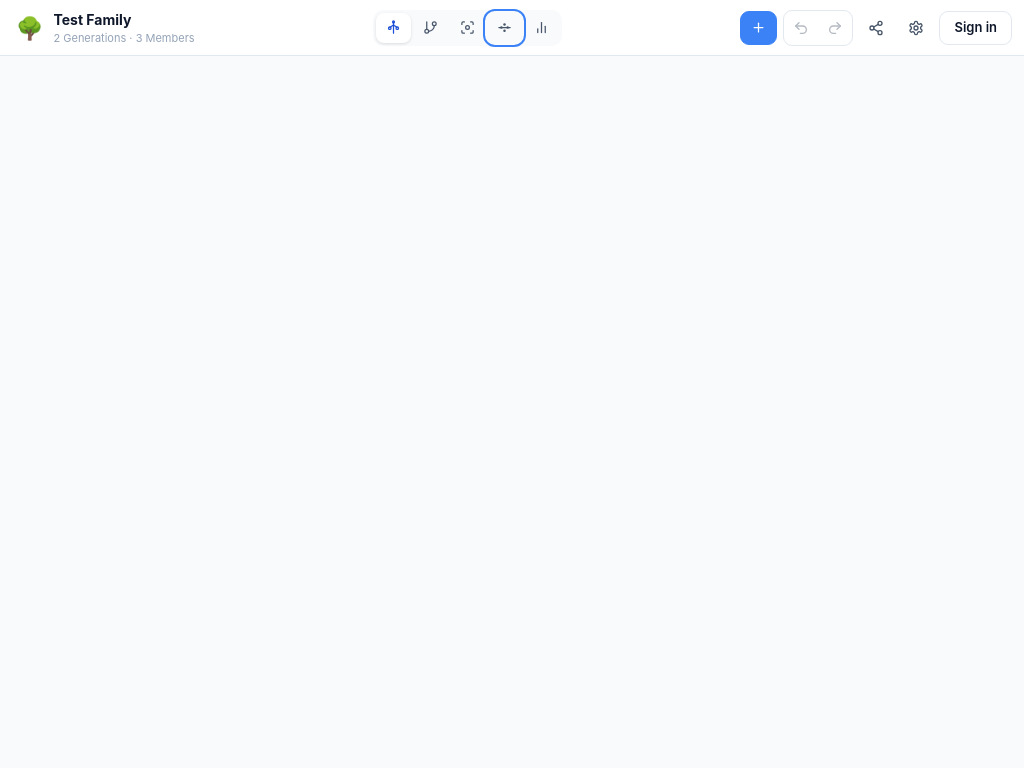
Test: dialog keyboard behaviour › returns focus to the Timeline button when the timeline closes
The image size is (1024, 768).
Click the 2nd button named "Timeline".
click(504, 28)  # box x1=487 y1=12 x2=522 y2=42
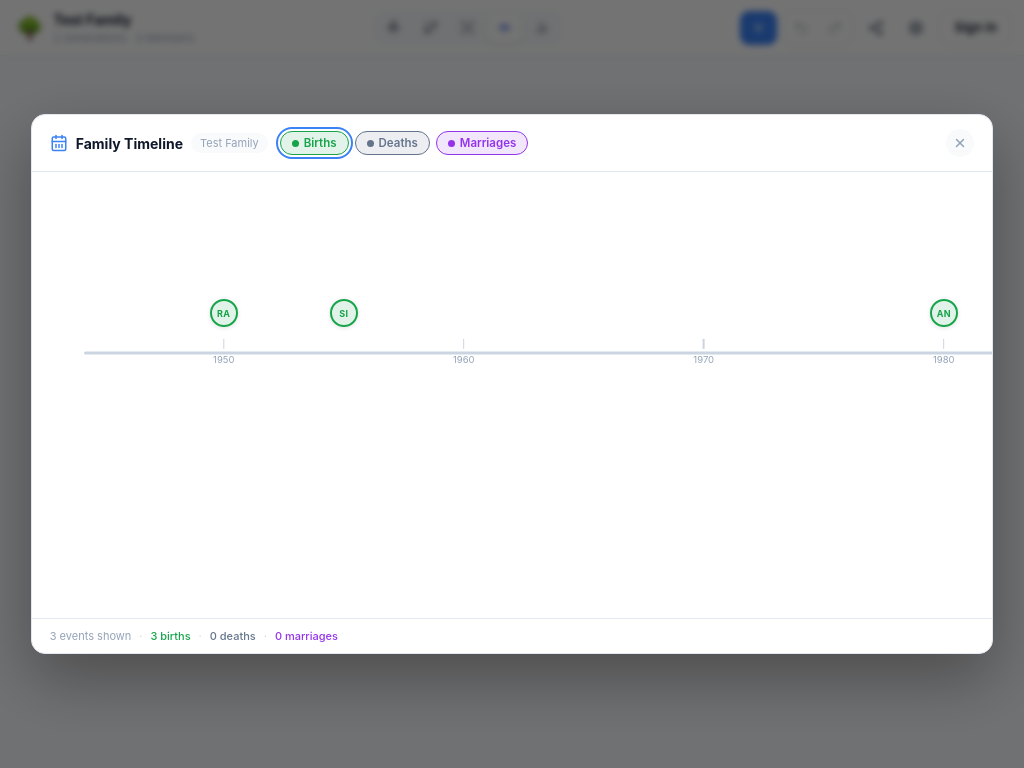
Press Escape in the button "Births", box x1=280 y1=131 x2=349 y2=155
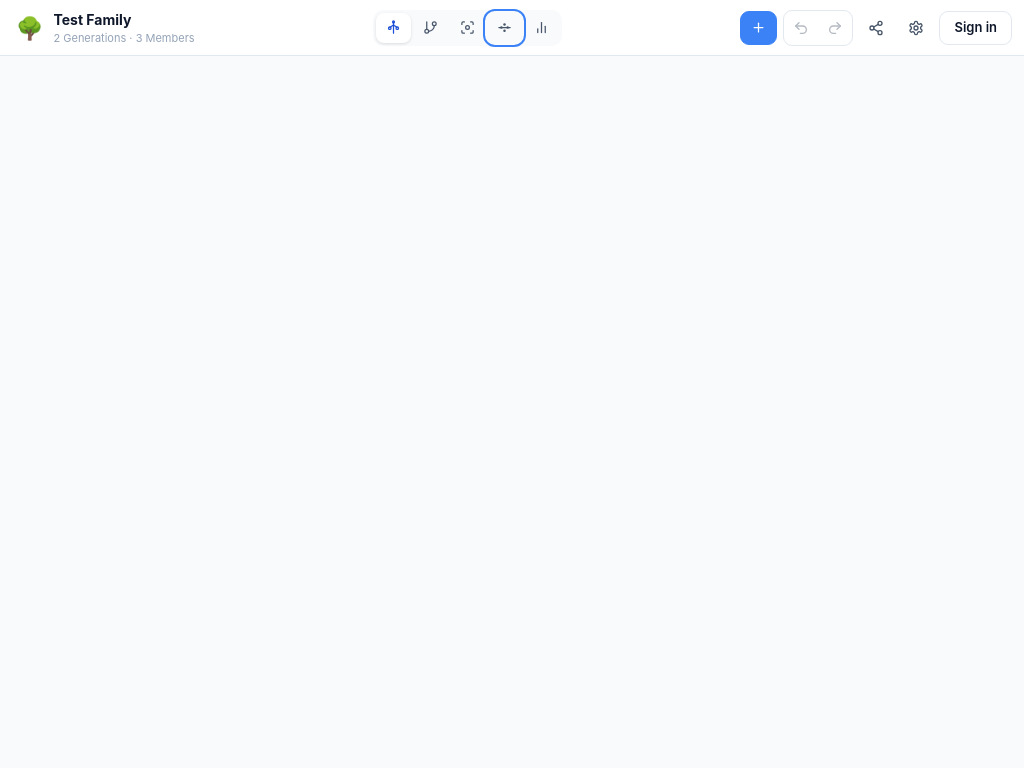
Expected: the dialog is gone
